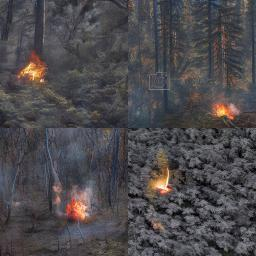Small fire: (147, 161, 179, 204), (15, 52, 52, 83), (65, 188, 93, 226), (210, 98, 242, 121)
